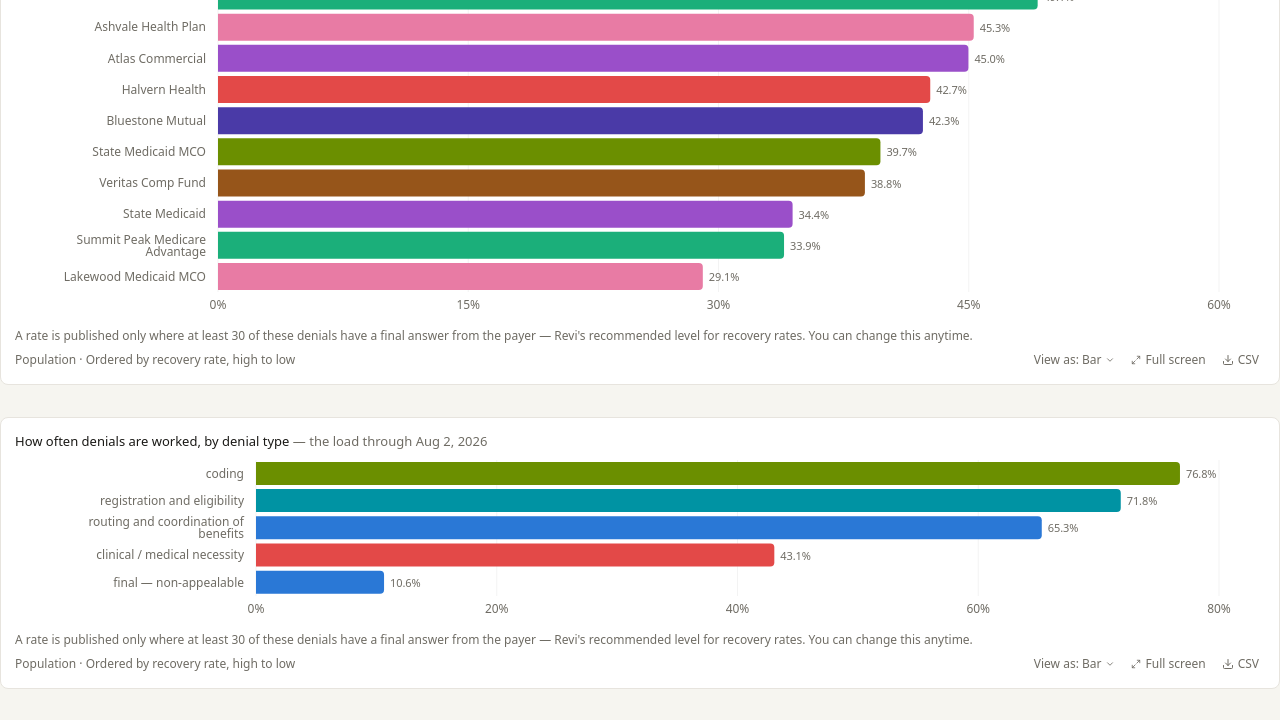
the report — its figures are this product's figures › opens a figure full screen and keeps the drawing the reader chose
(page scrolled)
Click the button with aria-label "View full screen: Recovery rate by payer" at (1169, 360), box [1126,350,1212,370]
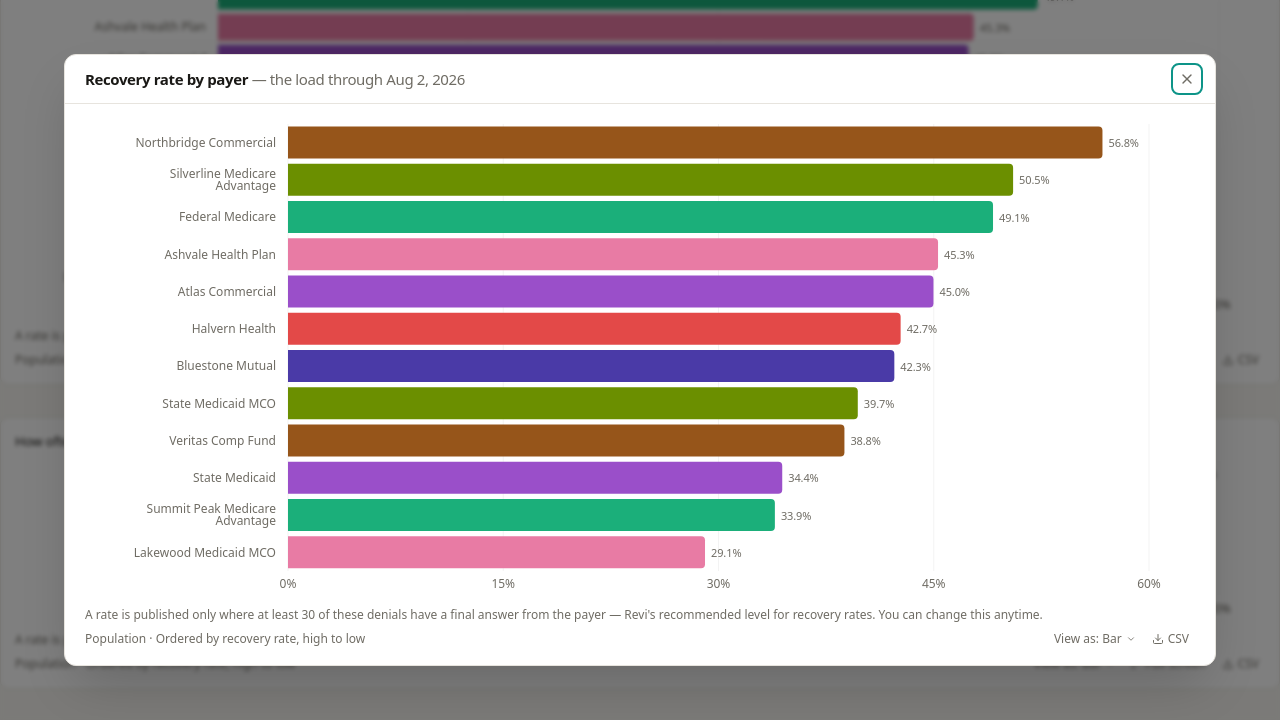
Check: the heading "Recovery rate by payer" is shown, box [85,69,248,89]
